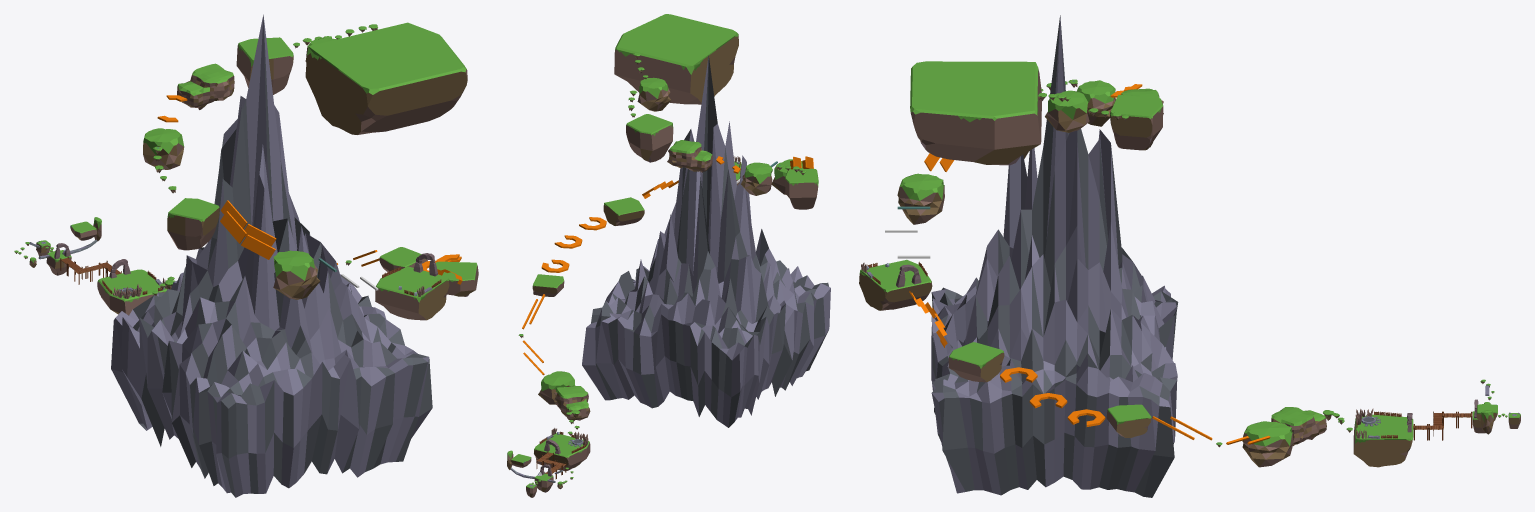
The model's file is mapa.glb.
The picture shows the model from 3 angles, left to right: view 1: azimuth 30°, elevation 25°; view 2: azimuth 150°, elevation 25°; view 3: azimuth 270°, elevation 25°; orthographic projection. The views are drawn at different scales.
Visible parts, largest first — view 1: Plane, Montana Jefe, Montana 5.001, Montana 9.001, Montana 8.001, Plataforma 6, Montana 9, Montana 5, Montana 8, Montana 3.002, Montana 3.001; view 2: Plane, Montana Jefe, Montana 9, Montana 9.001, Montana 5, Plataforma 6, Plataforma 5, Montana 3.002, Montana 10, Montana 8, Montana 7, Montana 3.001 (+1 smaller); view 3: Plane, Montana Jefe, Montana 5, Montana 5.001, Montana 9, Montana 8.001, Montana 7, Montana 3.002, Montana 10, Plataforma 5, Montana 3.001, Montana 8.
Part boxes in pixels (bbox=[...]): Plane: bbox=[111, 14, 432, 497]; Montana Jefe: bbox=[305, 22, 467, 134]; Montana 5.001: bbox=[375, 266, 449, 320]; Montana 9.001: bbox=[167, 198, 219, 250]; Montana 8.001: bbox=[273, 250, 320, 299]; Plataforma 6: bbox=[177, 63, 234, 109]; Montana 9: bbox=[236, 37, 293, 94]; Montana 5: bbox=[97, 269, 167, 315]; Montana 8: bbox=[143, 128, 184, 169]; Montana 3.002: bbox=[436, 261, 478, 296]; Montana 3.001: bbox=[379, 247, 427, 271]; Plane: bbox=[582, 55, 830, 427]; Montana Jefe: bbox=[614, 14, 738, 104]; Montana 9: bbox=[626, 114, 673, 162]; Montana 9.001: bbox=[785, 168, 818, 209]; Montana 5: bbox=[534, 433, 590, 471]; Plataforma 6: bbox=[667, 140, 713, 172]; Plataforma 5: bbox=[554, 385, 590, 421]; Montana 3.002: bbox=[603, 197, 644, 225]; Montana 10: bbox=[637, 77, 670, 111]; Montana 8: bbox=[741, 162, 772, 195]; Montana 7: bbox=[538, 371, 574, 404]; Montana 3.001: bbox=[532, 274, 564, 296]; Plane: bbox=[931, 15, 1178, 497]; Montana Jefe: bbox=[910, 61, 1041, 165]; Montana 5: bbox=[1353, 414, 1413, 467]; Montana 5.001: bbox=[859, 259, 932, 310]; Montana 9: bbox=[1110, 94, 1163, 150]; Montana 8.001: bbox=[897, 173, 944, 224]; Montana 7: bbox=[1242, 421, 1293, 467]; Montana 3.002: bbox=[948, 342, 1004, 382]; Montana 10: bbox=[1045, 90, 1089, 132]; Plataforma 5: bbox=[1271, 407, 1326, 445]; Montana 3.001: bbox=[1106, 404, 1151, 437]; Montana 8: bbox=[1076, 80, 1115, 126].
Size of the model in its own units: 371 by 484 by 658.
32 materials, 1 textured.
